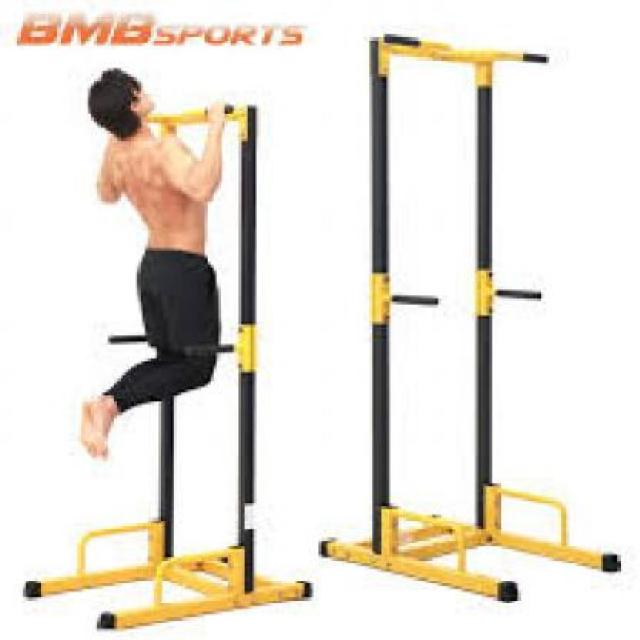chinning dipping: (317, 31, 621, 604), (21, 68, 312, 630)
